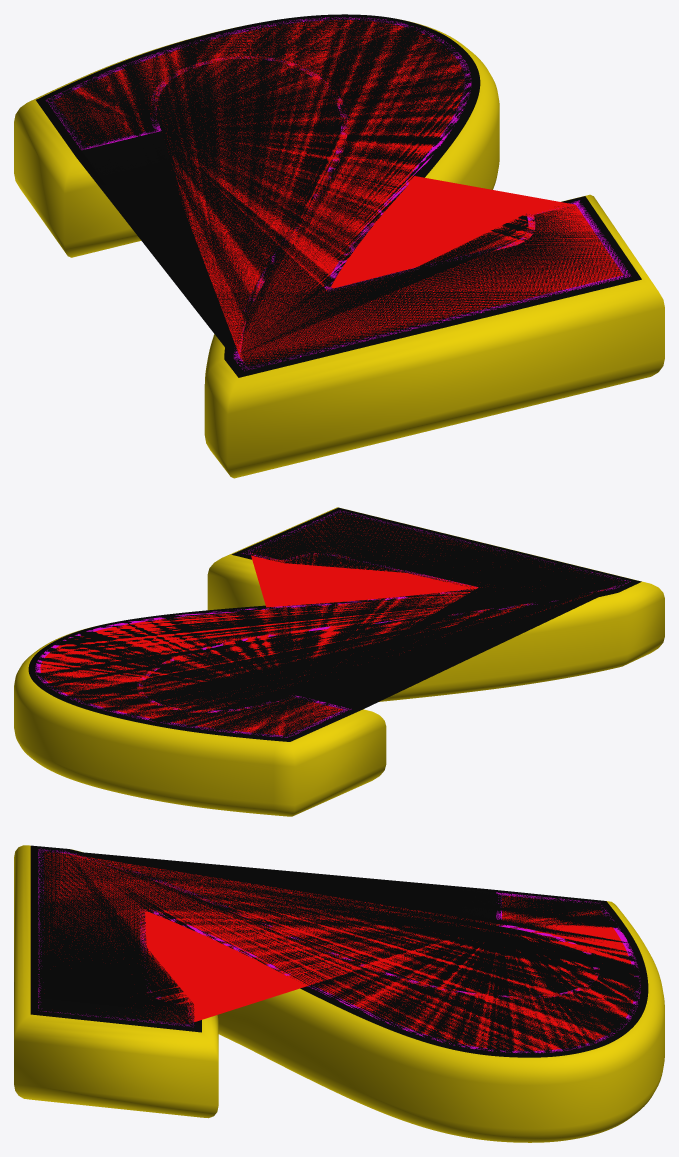
Rendered from Slot_Numbers_Two.fbx.
The picture shows the model from 3 angles, top to bottom: view 1: azimuth 30°, elevation 25°; view 2: azimuth 150°, elevation 25°; view 3: azimuth 270°, elevation 25°; orthographic projection. The views are drawn at different scales.
Parts seen in each view (by area): view 1: Two; view 2: Two; view 3: Two.
Part boxes in pixels (x1,y1,x2,y2): Two: [14, 14, 664, 478]; Two: [14, 507, 664, 816]; Two: [14, 845, 664, 1142].
Bounding box in the file's own units: 44.78 × 8 × 54.07.
